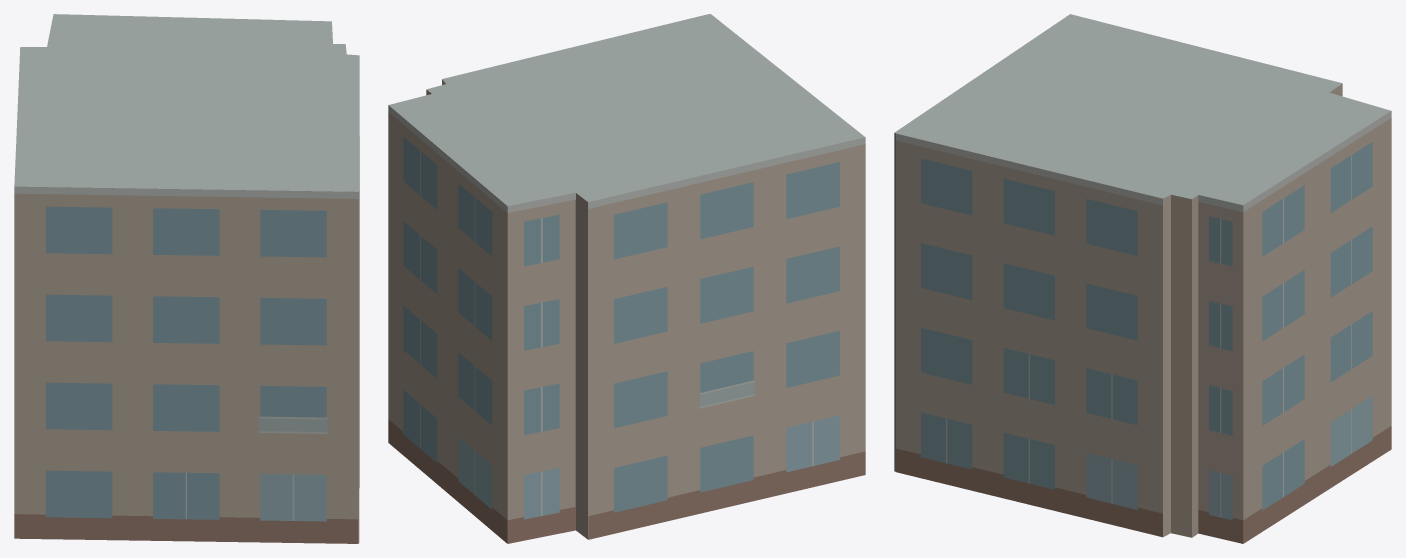
The model's file is survey-upis-32778346.glb.
3 views of the same model, side by side, from view 1: azimuth 30°, elevation 25°; view 2: azimuth 150°, elevation 25°; view 3: azimuth 270°, elevation 25° (orthographic). The views are drawn at different scales.
Parts seen in each view (by area): view 1: survey-upis-32778346.tmp; view 2: survey-upis-32778346.tmp; view 3: survey-upis-32778346.tmp.
Part boxes in pixels (left/top/right/bottom): survey-upis-32778346.tmp: left=14, top=14, right=359, bottom=543; survey-upis-32778346.tmp: left=388, top=14, right=865, bottom=543; survey-upis-32778346.tmp: left=894, top=14, right=1391, bottom=543.
Size of the model in its own units: 14.61 by 12.05 by 16.04.
